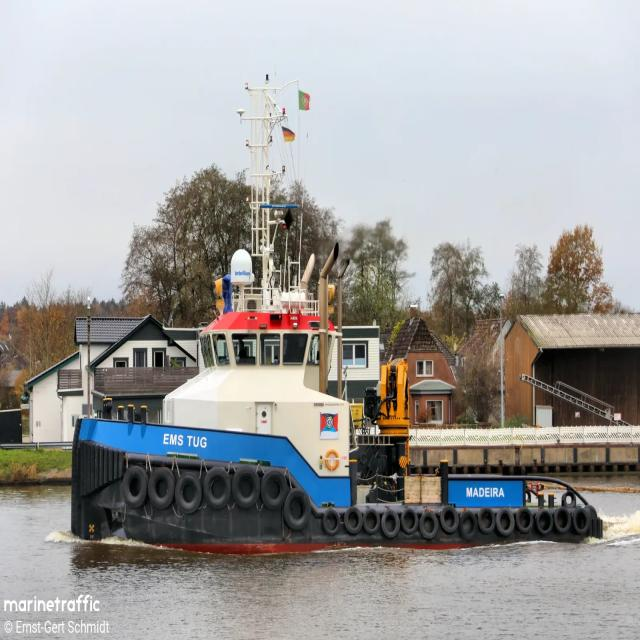Tug: (71, 82, 599, 551)
